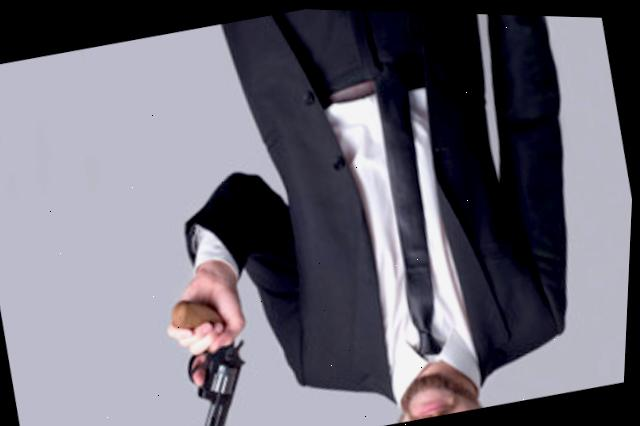pistol: (149, 279, 278, 426)
